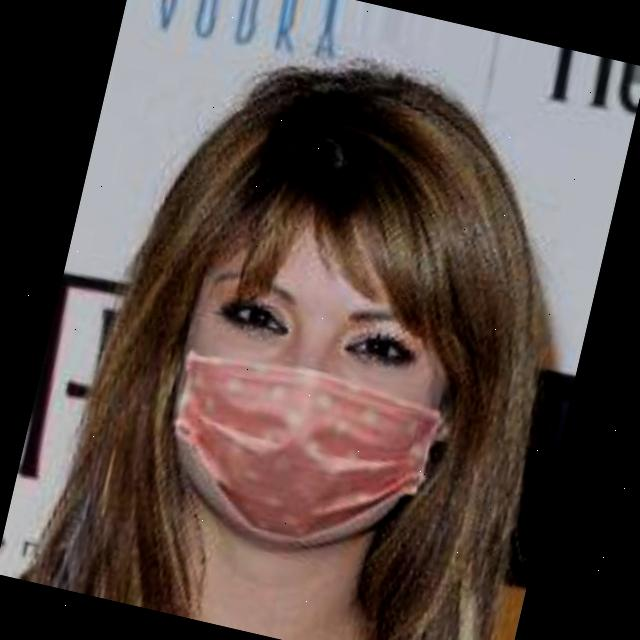suspicion: (128, 159, 518, 589)
